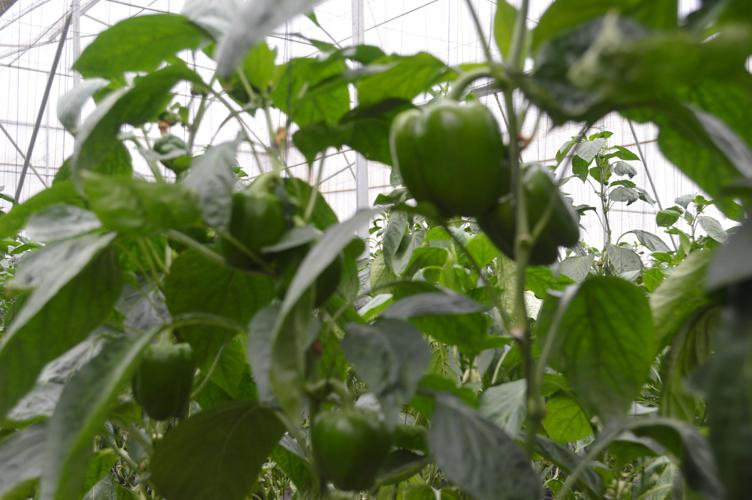BellPepper: (391, 98, 508, 218), (486, 164, 596, 272), (295, 402, 397, 489), (119, 331, 212, 426)
